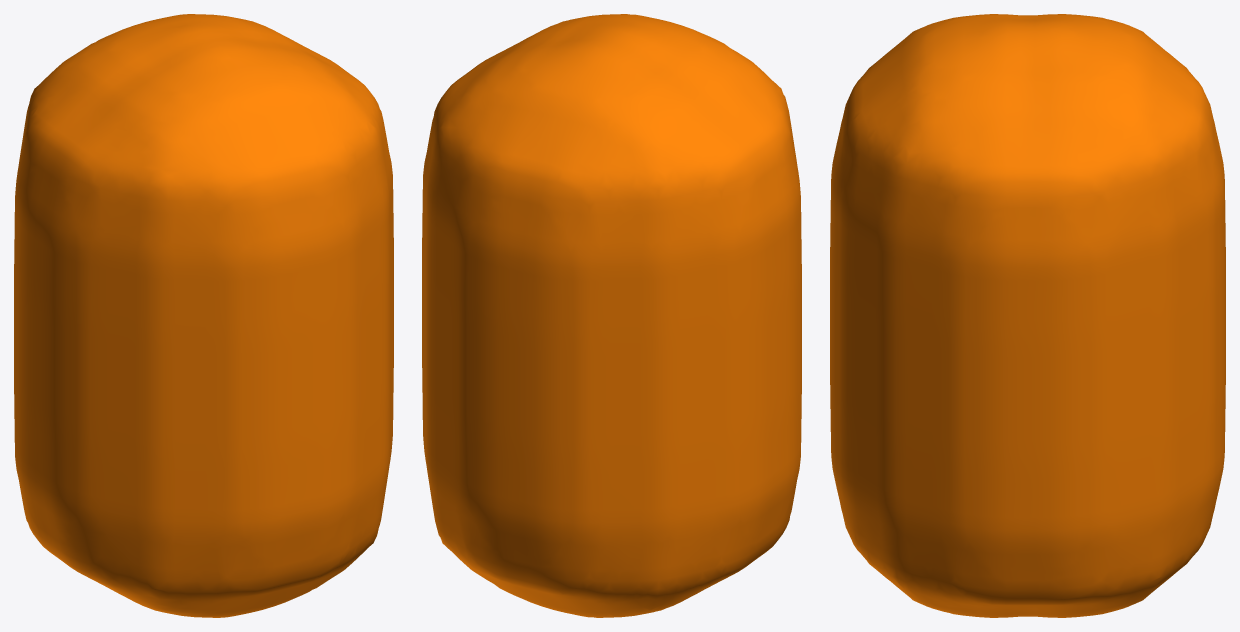
File: shake-fill.fbx
3 renders of one model, left to right at view 1: azimuth 30°, elevation 25°; view 2: azimuth 150°, elevation 25°; view 3: azimuth 270°, elevation 25°, orthographic. The views are drawn at different scales.
Parts seen in each view (by area): view 1: glass.006; view 2: glass.006; view 3: glass.006.
Part boxes in pixels (left/top/right/bottom): glass.006: left=14, top=14, right=393, bottom=617; glass.006: left=422, top=14, right=801, bottom=617; glass.006: left=830, top=14, right=1225, bottom=617.
Size of the model in its own units: 9.79 by 15.57 by 9.79.
